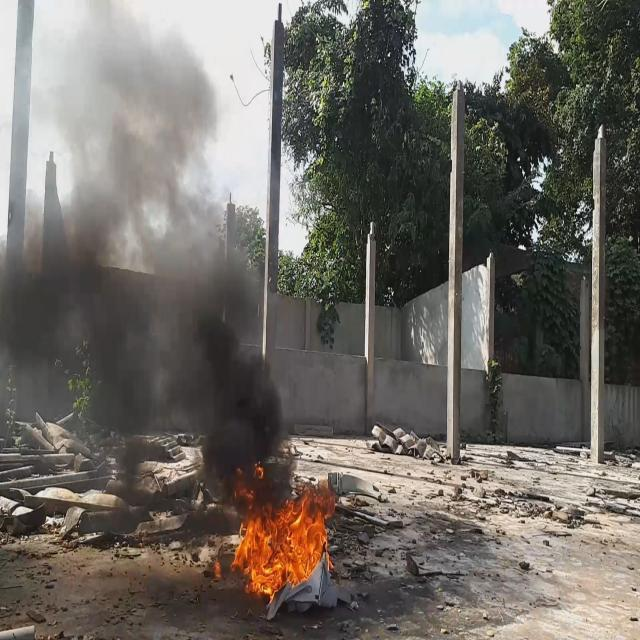Fire: (230, 467, 337, 595)
Smoke: (0, 0, 297, 521)
